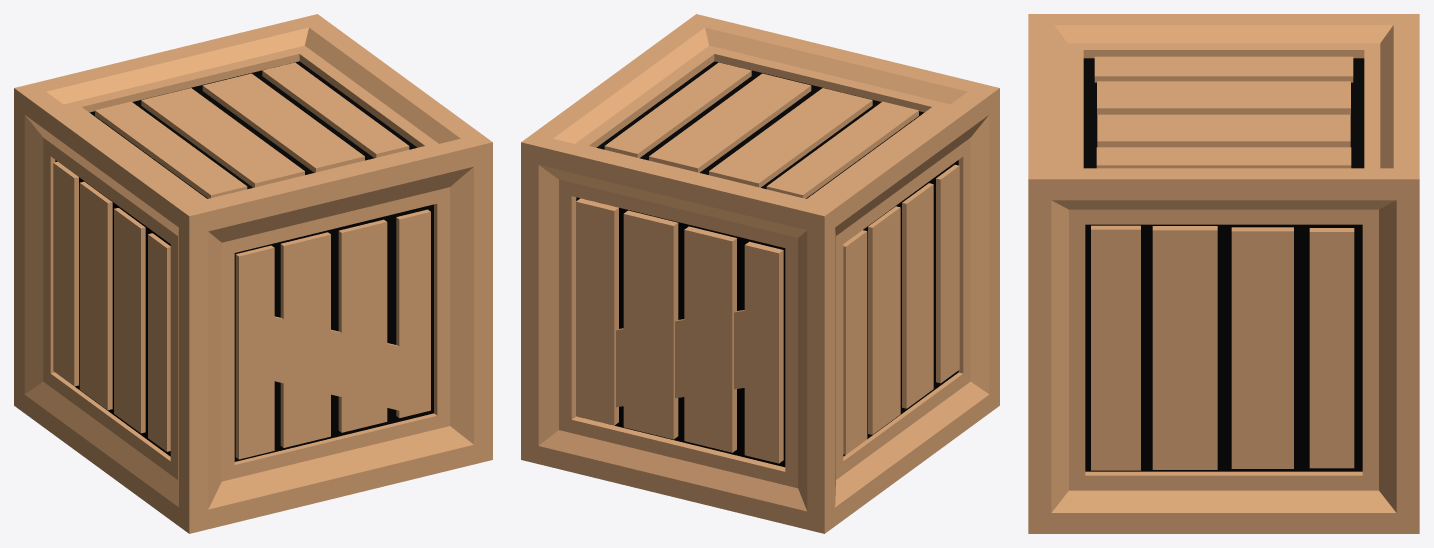
The model's file is Shit_box.fbx.
The picture shows the model from 3 angles, left to right: view 1: azimuth 30°, elevation 25°; view 2: azimuth 150°, elevation 25°; view 3: azimuth 270°, elevation 25°; orthographic projection. The views are drawn at different scales.
Parts seen in each view (by area): view 1: Cube; view 2: Cube; view 3: Cube.
Part boxes in pixels (bbox=[...]): Cube: bbox=[14, 14, 492, 533]; Cube: bbox=[521, 14, 999, 533]; Cube: bbox=[1028, 14, 1419, 533].
Size of the model in its own units: 200 by 200 by 200.
